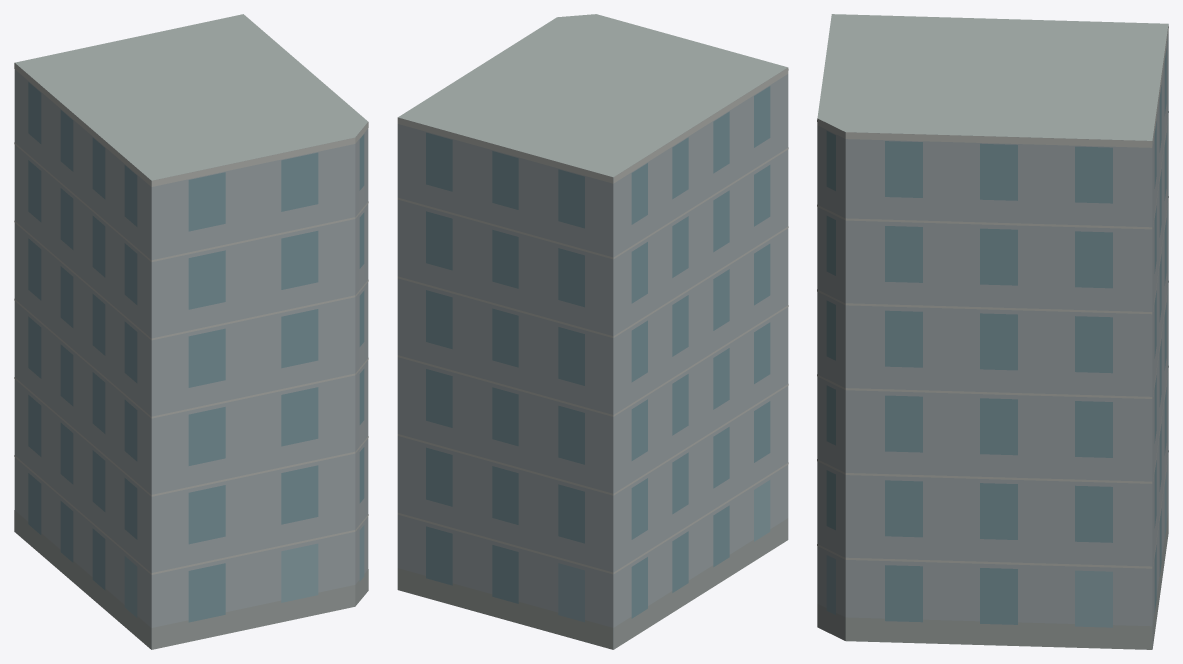
Rendered from survey-upis-32762194.glb.
3 renders of one model, left to right at view 1: azimuth 30°, elevation 25°; view 2: azimuth 150°, elevation 25°; view 3: azimuth 270°, elevation 25°, orthographic. The views are drawn at different scales.
Parts seen in each view (by area): view 1: survey-upis-32762194.tmp; view 2: survey-upis-32762194.tmp; view 3: survey-upis-32762194.tmp.
Part boxes in pixels (left/top/right/bottom): survey-upis-32762194.tmp: left=14, top=14, right=368, bottom=649; survey-upis-32762194.tmp: left=397, top=14, right=788, bottom=649; survey-upis-32762194.tmp: left=817, top=14, right=1168, bottom=649.
Size of the model in its own units: 9.6 by 17.9 by 11.22.
